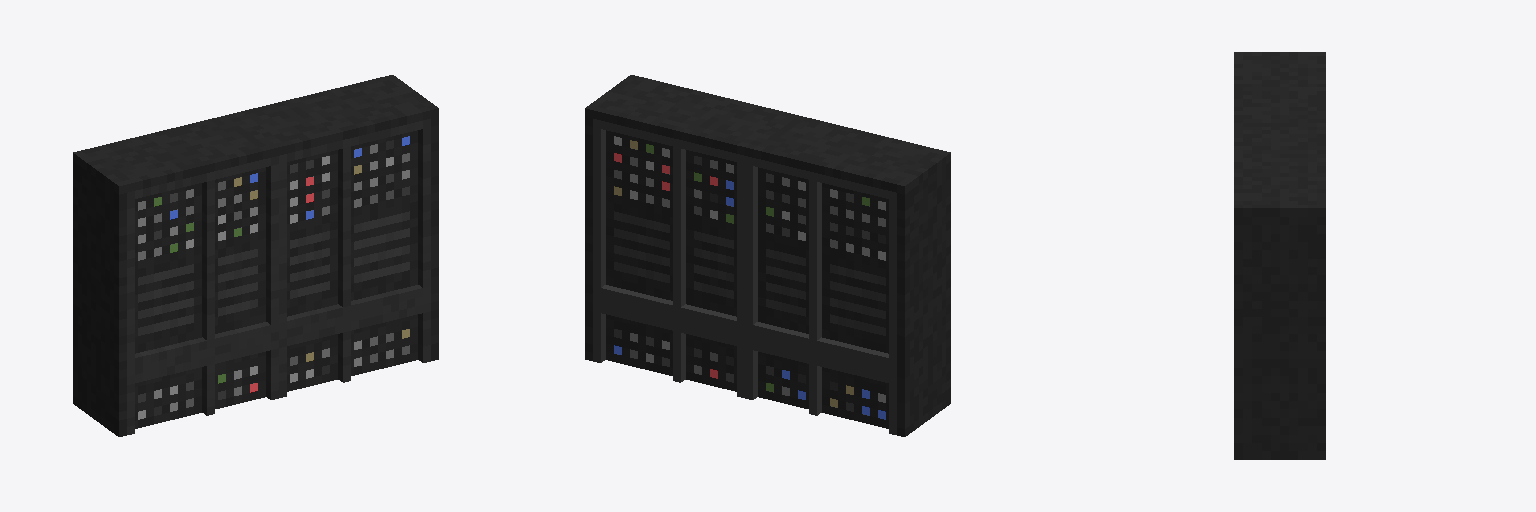
3 views of the same model, side by side, from view 1: azimuth 30°, elevation 25°; view 2: azimuth 150°, elevation 25°; view 3: azimuth 270°, elevation 25° (orthographic).
Parts seen in each view (by area): view 1: object 1; view 2: object 1; view 3: object 1.
Boxes of the visible parts, x1,y1,x2,y2 form: object 1: [73, 75, 438, 436]; object 1: [585, 75, 950, 436]; object 1: [1234, 52, 1325, 459].
Size of the model in its own units: 4 by 3 by 1.
1 materials, 1 textured.